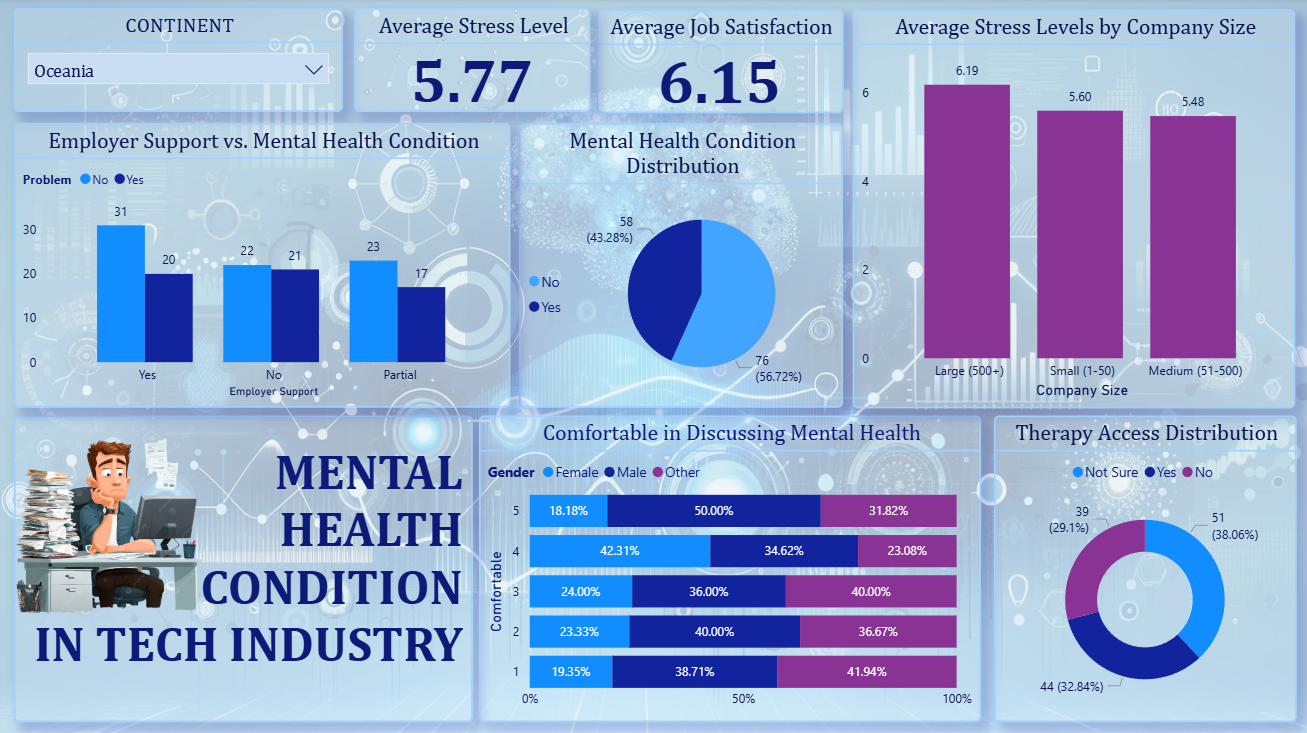

Layout of this report page (visuals, bound fields, positions):
{"tool":"powerbi","page":{"name":"Page 1","canvas":[1280,720],"ordinal":0},"visuals":[{"type":"slicer","title":"CONTINENT","fields":{"Values":["mental_health_in_tech.Continent"]},"box":[14.3,10,321.4,101.4],"z":0},{"type":"textbox","box":[14.3,408.6,448.6,300],"z":1000},{"type":"card","title":"Average Job Satisfaction","fields":{"Values":["Avg(mental_health_in_tech.Job_Satisfaction)"]},"box":[584.3,11.4,241.4,101.4],"z":2000},{"type":"card","title":"Average Stress Level","fields":{"Values":["Avg(mental_health_in_tech.Work_Stress_Level)"]},"box":[347.1,10,231.4,101.4],"z":3000},{"type":"image","box":[2.9,408.6,208.6,208.6],"z":4000},{"type":"pieChart","title":"Mental Health Condition Distribution","fields":{"Y":["CountNonNull(mental_health_in_tech.Employee_ID)"],"Category":["mental_health_in_tech.Mental_Health_Condition"]},"box":[508.6,122.9,317.1,278.6],"z":5000},{"type":"clusteredColumnChart","title":"Employer Support vs. Mental Health Condition","fields":{"Category":["mental_health_in_tech.Employer_Support"],"Y":["CountNonNull(mental_health_in_tech.Employee_ID)"],"Series":["mental_health_in_tech.Mental_Health_Condition"]},"box":[14.3,122.9,485.7,278.6],"z":6000},{"type":"hundredPercentStackedBarChart","title":"Comfortable in Discussing Mental Health","fields":{"Series":["mental_health_in_tech.Gender"],"Category":["mental_health_in_tech.Comfort_Discussing_MH"],"Y":["CountNonNull(mental_health_in_tech.Employee_ID)"]},"box":[470,408.6,491.4,300],"z":7000},{"type":"columnChart","title":"Average Stress Levels by Company Size","fields":{"Category":["mental_health_in_tech.Company_Size"],"Y":["Avg(mental_health_in_tech.Work_Stress_Level)"]},"box":[835.7,11.4,432.9,390],"z":8000},{"type":"donutChart","title":"Therapy Access Distribution","fields":{"Y":["CountNonNull(mental_health_in_tech.Employee_ID)"],"Category":["mental_health_in_tech.Therapy_Access"]},"box":[972.9,408.6,295.7,300],"z":9000}]}

Visuals, with their boxes in screenshot pixels (x1, y1, x2, y2), scaled from the page's 1280x720 canvas onto the 1307x733 screenshot:
"CONTINENT" slicer: x1=15, y1=10, x2=343, y2=113
textbox: x1=15, y1=416, x2=473, y2=721
"Average Job Satisfaction" card: x1=597, y1=12, x2=843, y2=115
"Average Stress Level" card: x1=354, y1=10, x2=591, y2=113
image: x1=3, y1=416, x2=216, y2=628
"Mental Health Condition Distribution" pieChart: x1=519, y1=125, x2=843, y2=409
"Employer Support vs. Mental Health Condition" clusteredColumnChart: x1=15, y1=125, x2=511, y2=409
"Comfortable in Discussing Mental Health" hundredPercentStackedBarChart: x1=480, y1=416, x2=982, y2=721
"Average Stress Levels by Company Size" columnChart: x1=853, y1=12, x2=1295, y2=409
"Therapy Access Distribution" donutChart: x1=993, y1=416, x2=1295, y2=721
